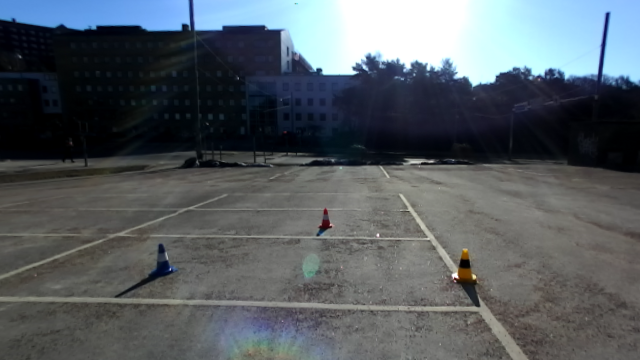blue: (148, 240, 179, 276)
orange: (313, 205, 334, 234)
yellow: (451, 246, 479, 286)
